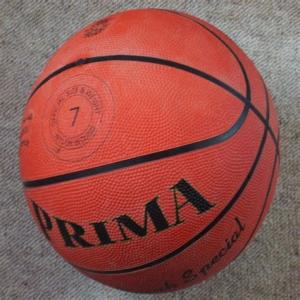Basket: (19, 8, 280, 292)
